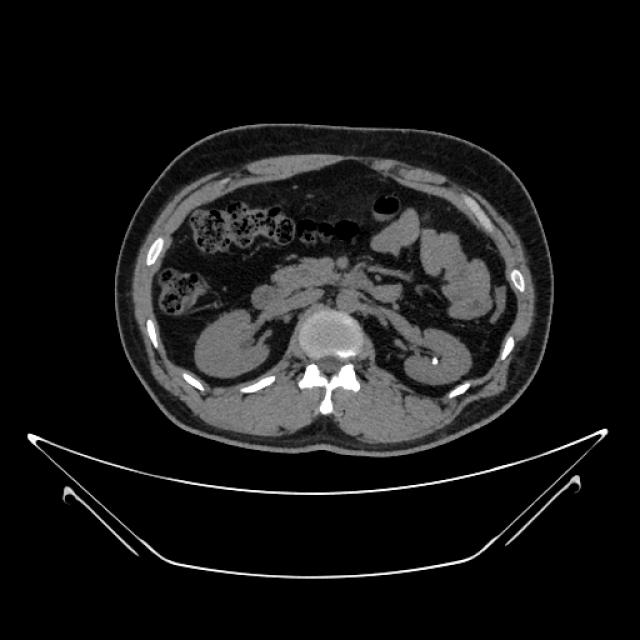kidneystone: (431, 356, 438, 364)
